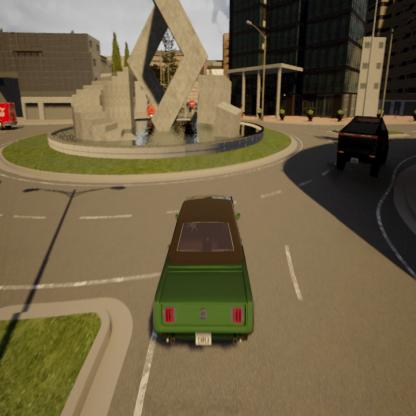Cars: (143, 167, 278, 359), (317, 91, 398, 197), (0, 86, 22, 140)
